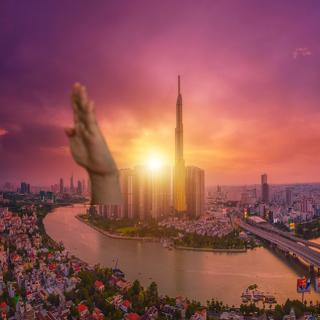RIGHT: (57, 75, 118, 174)
